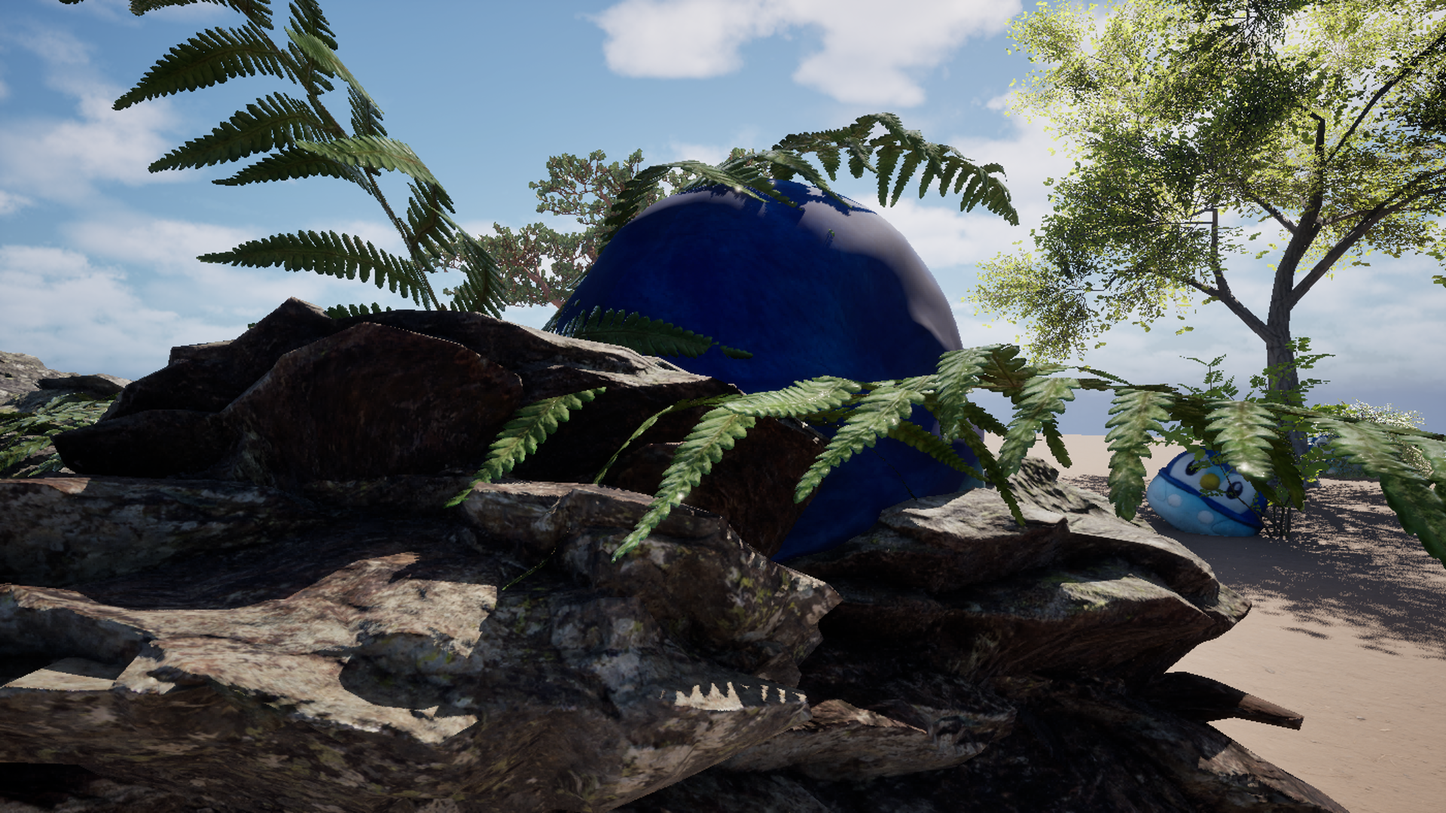Piplup: (329, 0, 1156, 813)
